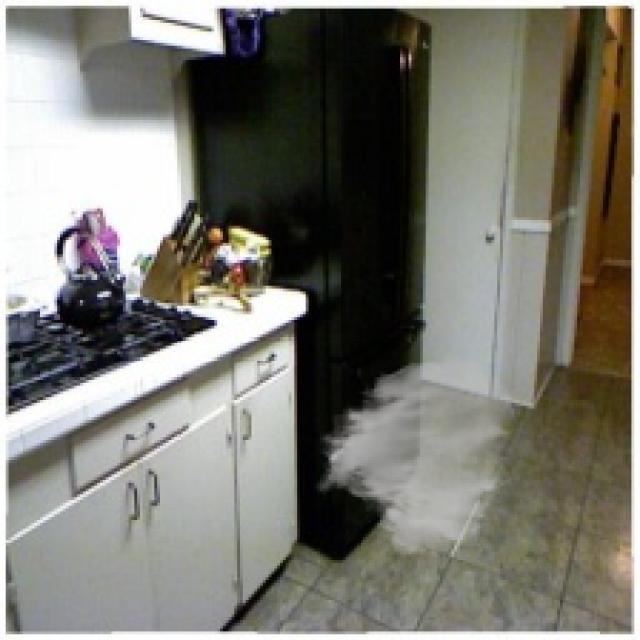Smoke: (314, 352, 517, 557)
